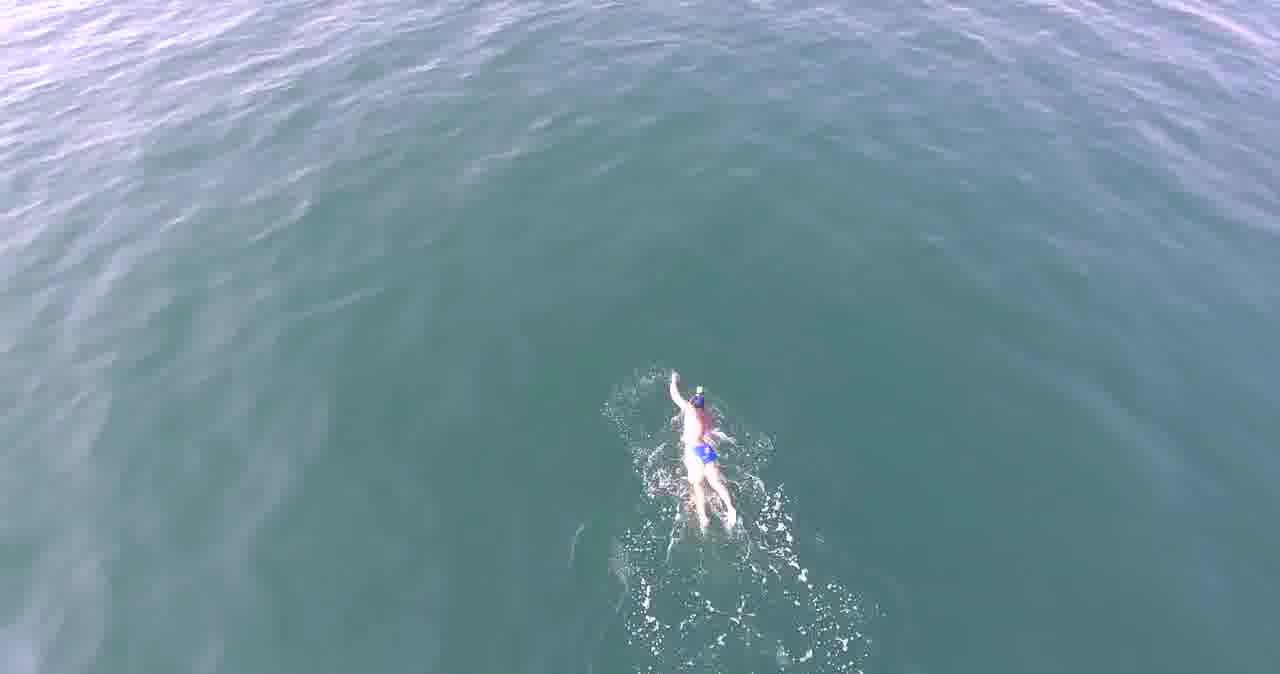swimmer: (660, 370, 752, 540)
